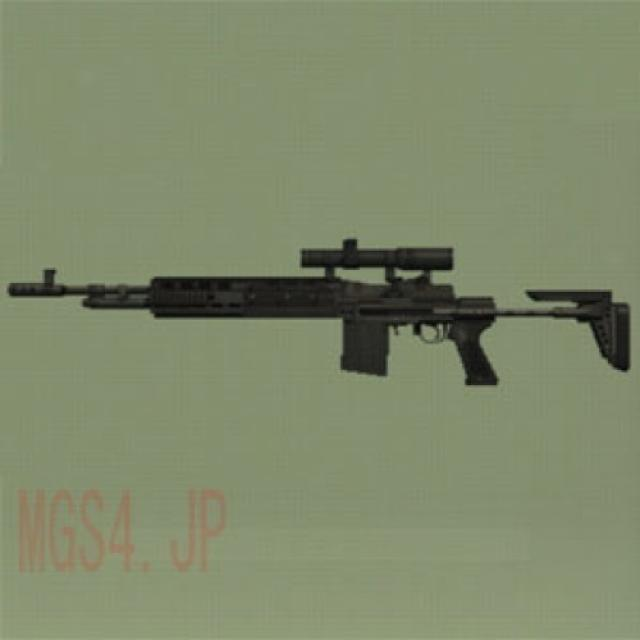Gun: (22, 191, 640, 426)
